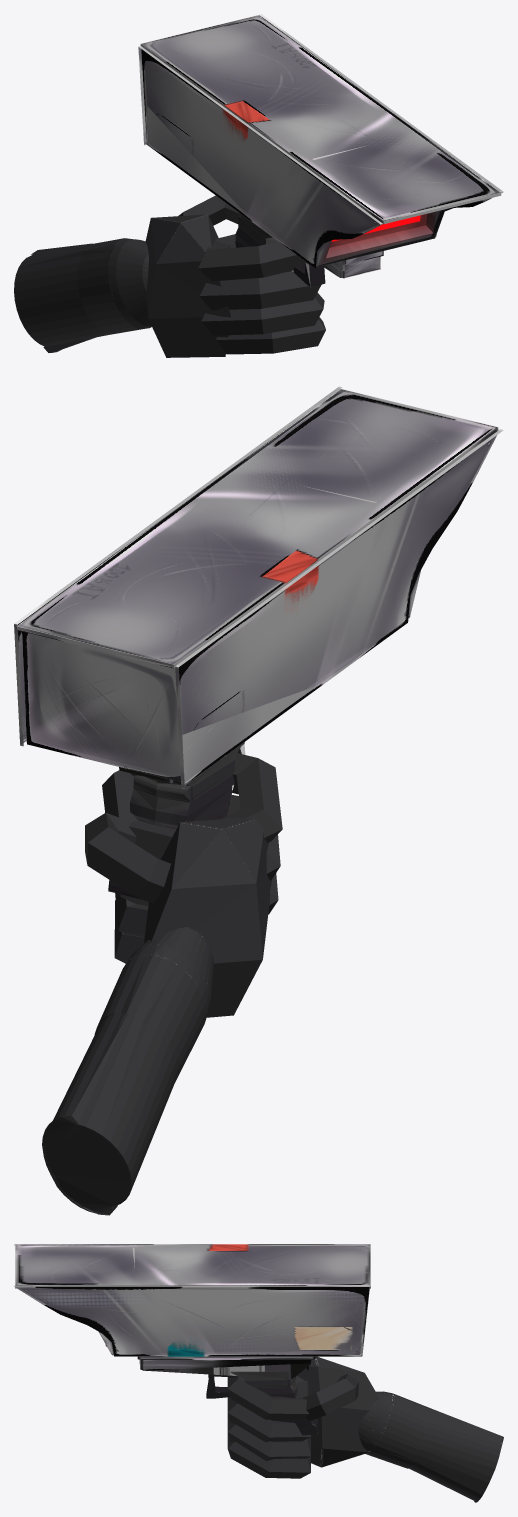
Rendered from camera.glb.
The picture shows the model from 3 angles, top to bottom: view 1: azimuth 30°, elevation 25°; view 2: azimuth 150°, elevation 25°; view 3: azimuth 270°, elevation 25°; orthographic projection. The views are drawn at different scales.
Visible parts, largest first — view 1: Cube.001, Torus.004_Torus.004, Cylinder_Cylinder, Cube.007_Cube.007; view 2: Cube.001, Torus.004_Torus.004, Cylinder_Cylinder; view 3: Cube.001, Torus.004_Torus.004, Cylinder_Cylinder.
Boxes of the visible parts, x1,y1,x2,y2 form: Cube.001: (138,14,503,278); Torus.004_Torus.004: (145,195,325,357); Cylinder_Cylinder: (14,238,151,352); Cube.007_Cube.007: (304,261,325,287); Cube.001: (14,386,503,899); Torus.004_Torus.004: (85,753,282,1017); Cylinder_Cylinder: (42,927,213,1215); Cube.001: (14,1244,370,1435); Torus.004_Torus.004: (227,1356,379,1478); Cylinder_Cylinder: (358,1391,503,1502).
Size of the model in its own units: 2.87 by 5.8 by 9.83.
18 materials, 17 textured.
